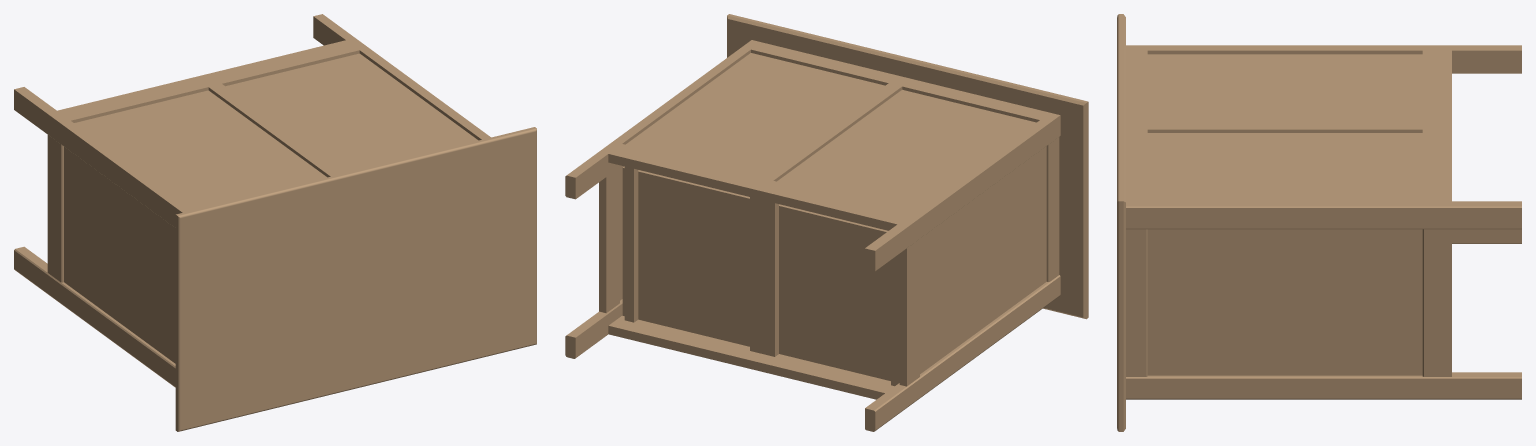
Rendered from dresser.fbx.
3 renders of one model, left to right at view 1: azimuth 30°, elevation 25°; view 2: azimuth 150°, elevation 25°; view 3: azimuth 270°, elevation 25°, orthographic. The views are drawn at different scales.
Visible parts, largest first — view 1: Body1 (×10); view 2: Body1 (×20), Body2 (×2); view 3: Body1 (×13).
Boxes of the visible parts, left/top/right/bottom form: Body1 (×10): left=14, top=14, right=536, bottom=431; Body1 (×20): left=565, top=14, right=1088, bottom=431; Body2 (×2): left=624, top=166, right=899, bottom=386; Body1 (×13): left=1117, top=14, right=1521, bottom=431.
Size of the model in its own units: 43.5 by 25 by 39.73.
